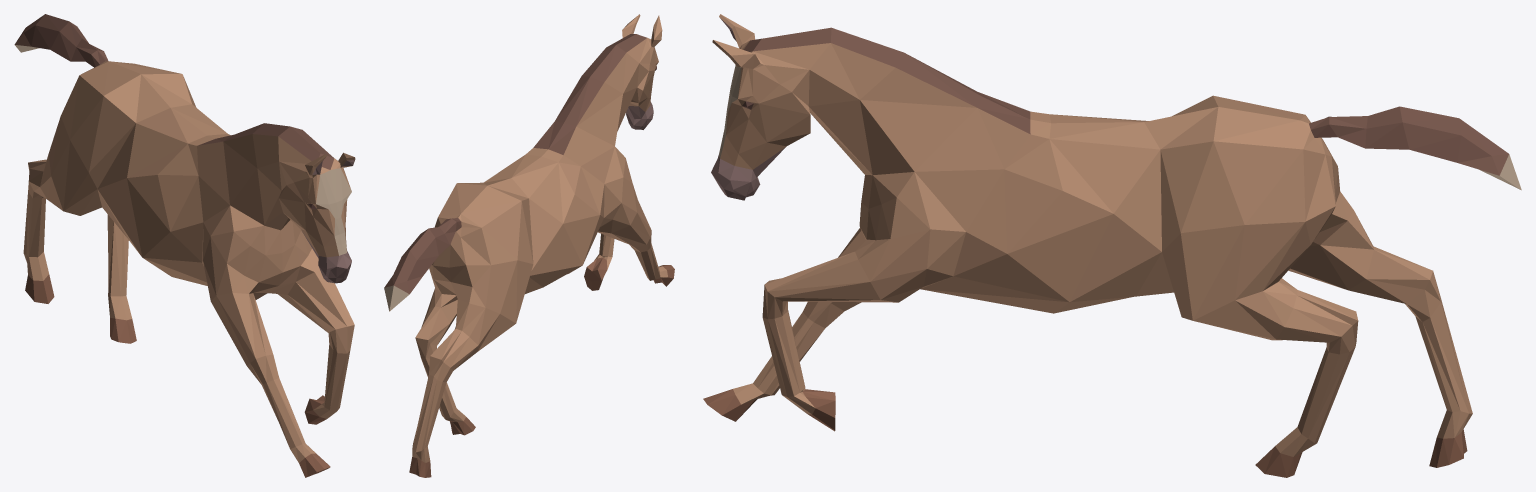
File: Horse.glb
3 views of the same model, side by side, from view 1: azimuth 30°, elevation 25°; view 2: azimuth 150°, elevation 25°; view 3: azimuth 270°, elevation 25° (orthographic). The views are drawn at different scales.
Parts seen in each view (by area): view 1: mesh_0; view 2: mesh_0; view 3: mesh_0.
Boxes of the visible parts, left/top/right/bottom form: mesh_0: left=14, top=14, right=355, bottom=477; mesh_0: left=384, top=14, right=674, bottom=477; mesh_0: left=703, top=14, right=1521, bottom=477.
Size of the model in its own units: 59.91 by 173 by 285.
